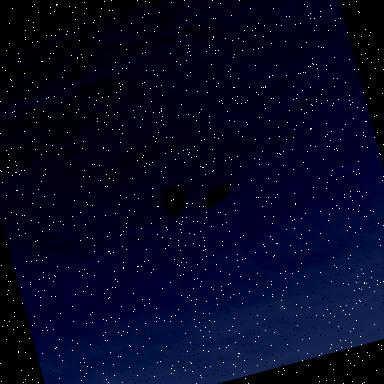pbw: (199, 183, 236, 213), (161, 188, 188, 225)
